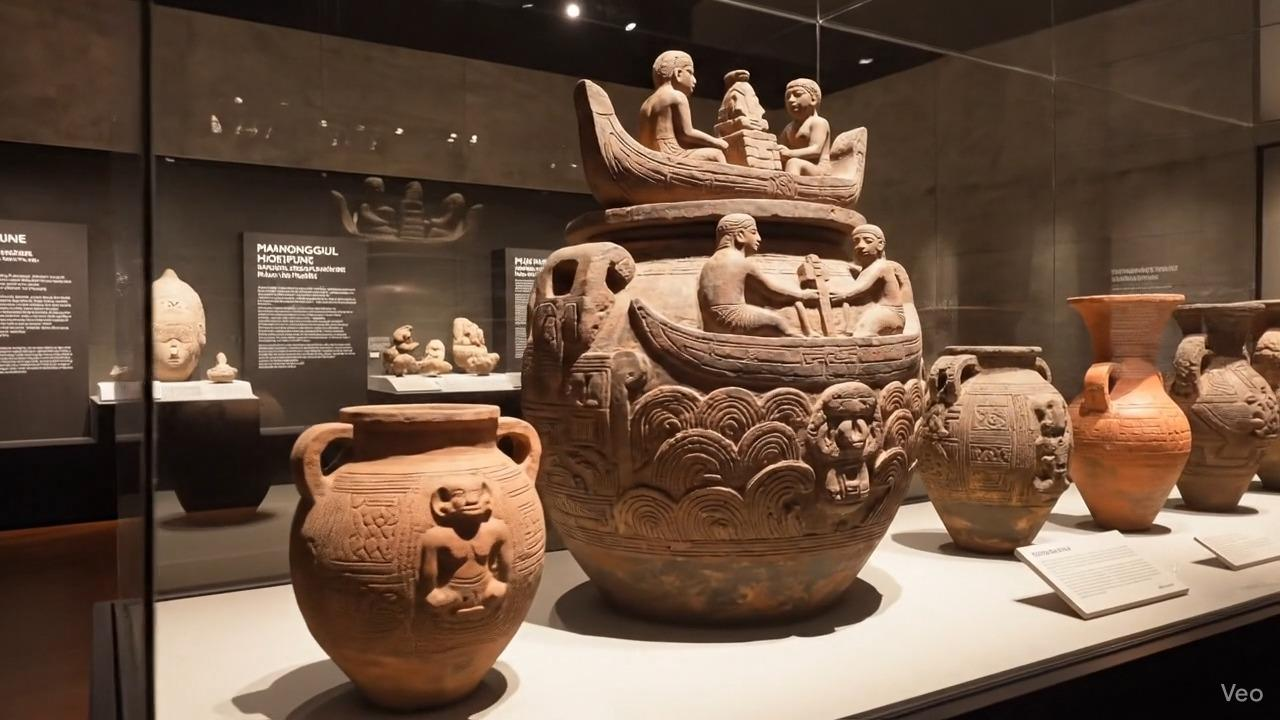manunggul_jar: (505, 47, 939, 647)
